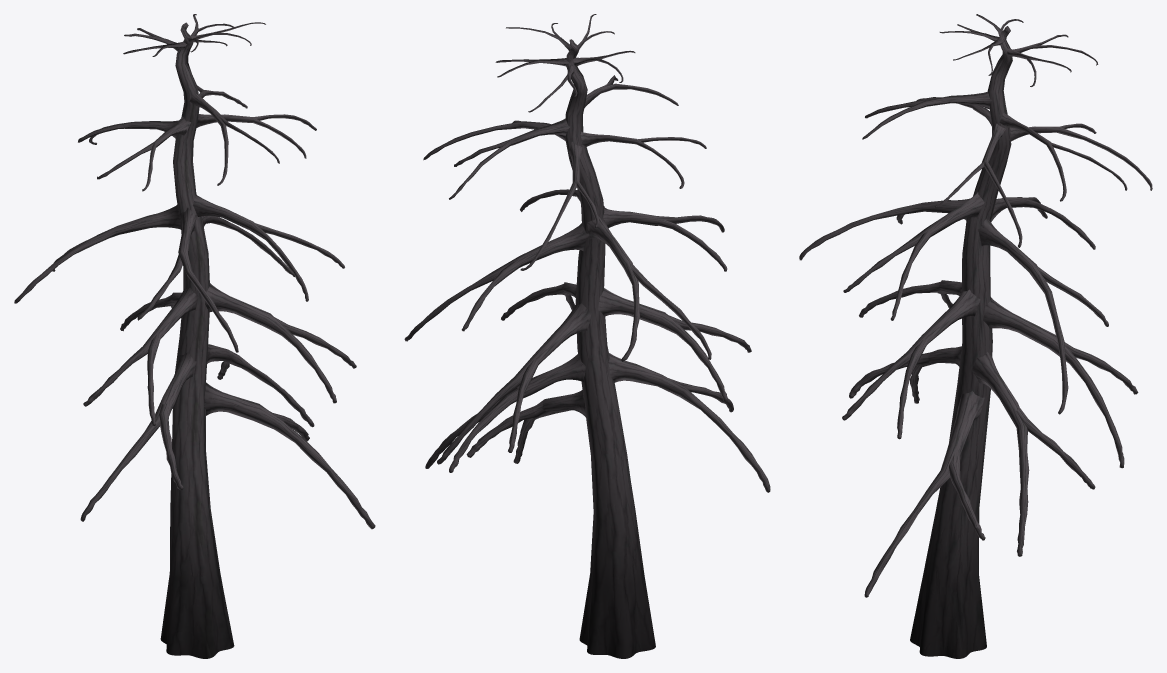
File: sn_dead_tree_5.glb
3 renders of one model, left to right at view 1: azimuth 30°, elevation 25°; view 2: azimuth 150°, elevation 25°; view 3: azimuth 270°, elevation 25°, orthographic. The views are drawn at different scales.
Visible parts, largest first — view 1: DeadTree_5; view 2: DeadTree_5; view 3: DeadTree_5.
Part boxes in pixels (left/top/right/bottom): DeadTree_5: left=14, top=14, right=375, bottom=658; DeadTree_5: left=404, top=14, right=770, bottom=658; DeadTree_5: left=799, top=14, right=1152, bottom=658.
Bounding box in the file's own units: 8.36 × 16.44 × 8.41.
Materials: 1 (1 with a texture image).
